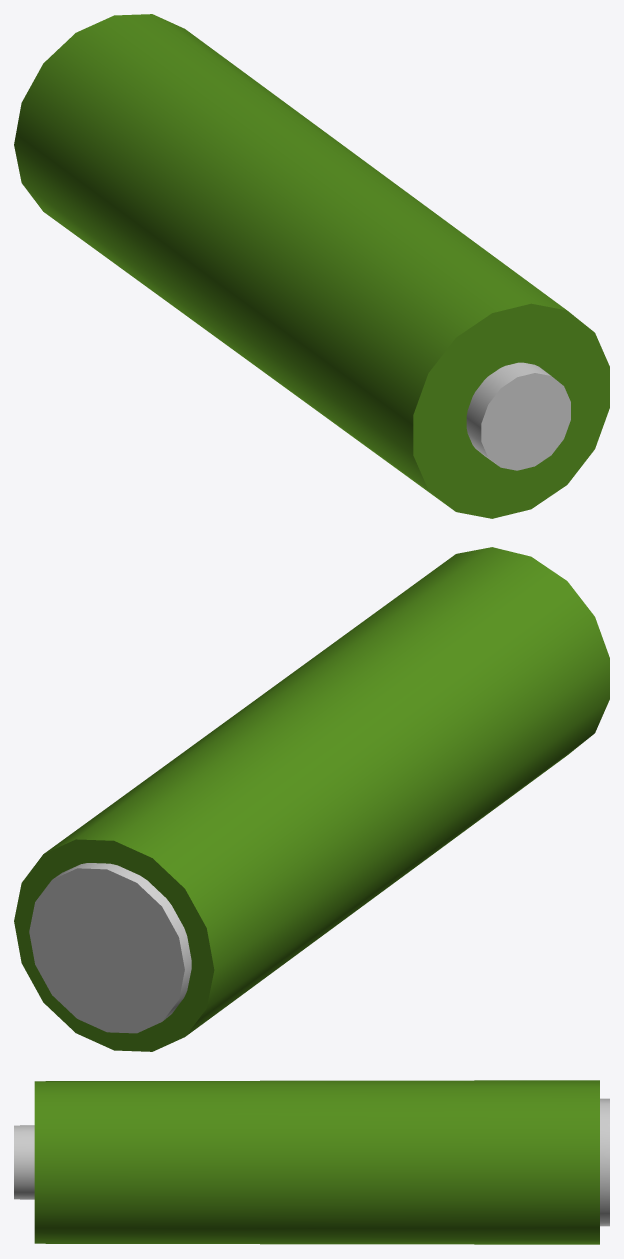
File: battery.fbx
3 views of the same model, one above another, from view 1: azimuth 30°, elevation 25°; view 2: azimuth 150°, elevation 25°; view 3: azimuth 270°, elevation 25° (orthographic). The views are drawn at different scales.
Parts seen in each view (by area): view 1: Cylinder.001; view 2: Cylinder.001; view 3: Cylinder.001.
Boxes of the visible parts, x1,y1,x2,y2 form: Cylinder.001: (14, 14, 609, 518); Cylinder.001: (14, 547, 609, 1051); Cylinder.001: (14, 1080, 609, 1244).
Bounding box in the file's own units: 60.01 × 60.01 × 217.
